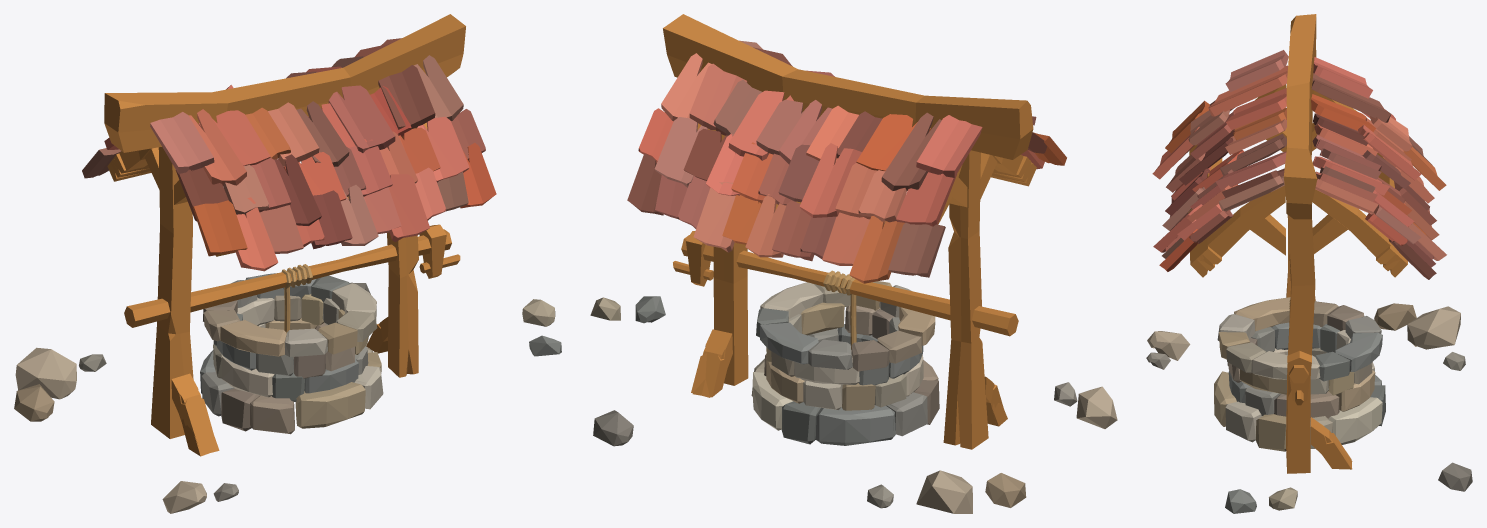
File: well.glb
3 renders of one model, left to right at view 1: azimuth 30°, elevation 25°; view 2: azimuth 150°, elevation 25°; view 3: azimuth 270°, elevation 25°, orthographic. The views are drawn at different scales.
Visible parts, largest first — view 1: Cube.021, Cube.005, Cube.003, Cube, Cube.002, Cylinder, Cube.004, Cube.001, Cube.122, Cube.115, Icosphere, Cube.031 (+34 smaller); view 2: Cube.021, Cube.005, Cube.003, Cube, Cube.002, Cube.001, Cylinder, Cube.004, Cube.072, Cube.082, Cube.039, Cube.029 (+38 smaller); view 3: Cube.003, Cube.021, Cube.004, Cube, Cube.002, Cube.001, Cube.007, Icosphere, Cube.023, Cube.116, Cube.083, Cube.117 (+54 smaller).
Boxes of the visible parts, box(x1,y1,x2,y2) form: Cube.021: box(104, 14, 465, 152); Cube.005: box(151, 147, 193, 438); Cube.003: box(203, 273, 377, 356); Cube: box(200, 347, 383, 434); Cube.002: box(214, 294, 368, 378); Cylinder: box(124, 229, 451, 327); Cube.004: box(387, 232, 418, 377); Cube.001: box(213, 318, 368, 401); Cube.122: box(328, 85, 395, 152); Cube.115: box(150, 112, 214, 173); Icosphere: box(15, 347, 76, 399); Cube.031: box(171, 373, 219, 456); Cube.021: box(663, 14, 1033, 159); Cube.005: box(943, 150, 988, 449); Cube.003: box(756, 281, 935, 371); Cube: box(751, 358, 939, 445); Cube.002: box(766, 302, 923, 385); Cube.001: box(764, 324, 923, 410); Cylinder: box(681, 235, 1018, 336); Cube.004: box(713, 242, 748, 385); Cube.072: box(799, 143, 861, 217); Cube.082: box(916, 115, 982, 177); Cube.039: box(849, 216, 904, 283); Cube.029: box(888, 223, 945, 277); Cube.003: box(1217, 297, 1382, 381); Cube.021: box(1283, 14, 1317, 219); Cube.004: box(1286, 215, 1315, 473); Cube: box(1214, 371, 1385, 451); Cube.002: box(1227, 322, 1372, 395); Cube.001: box(1228, 348, 1375, 418); Cube.007: box(1207, 185, 1285, 257); Icosphere: box(1407, 306, 1460, 349); Cube.023: box(1312, 189, 1390, 257); Cube.116: box(1208, 65, 1287, 116); Cube.083: box(1311, 73, 1390, 122); Cube.117: box(1226, 88, 1286, 129).
Size of what is drawn, in the model's own units: 6.2 by 4.54 by 3.92.
